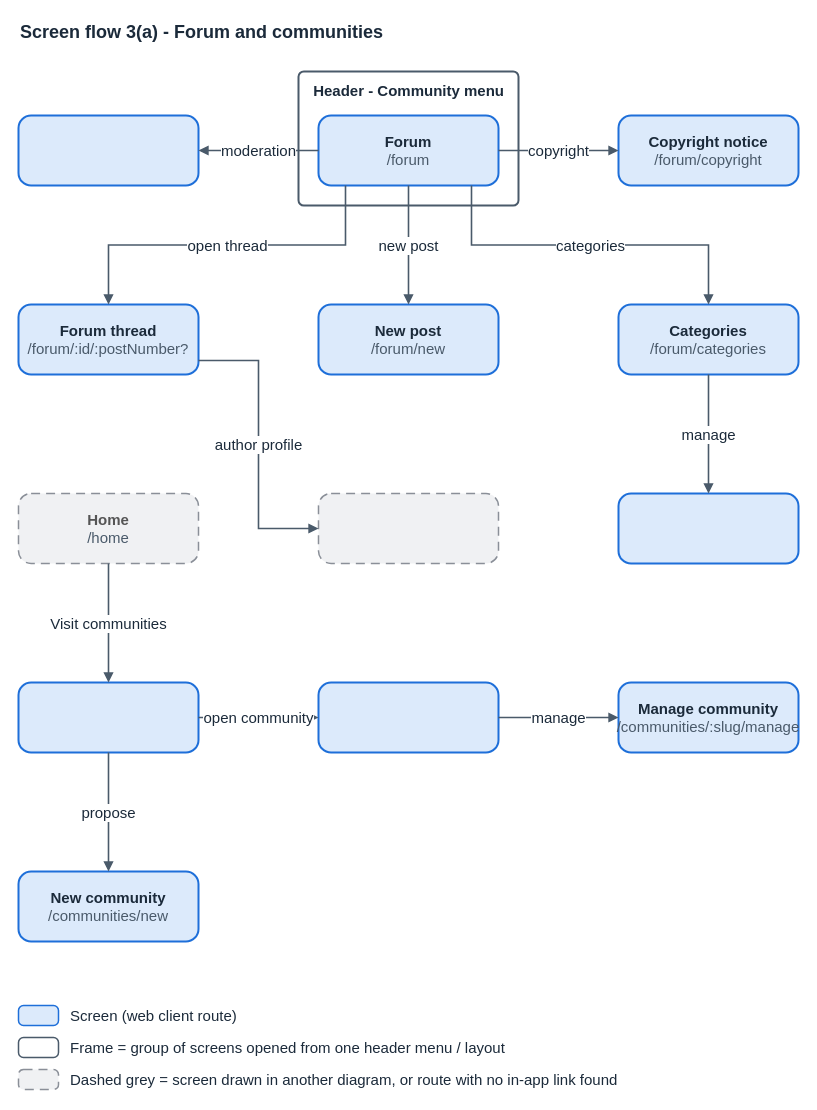
Image size: 817x1110. Some labels were removed from this diagram. Here are the shapes that lost their labels. From the top down, the box of each, then its label:
(17, 114, 199, 186): Moderation /forum/moderation
(317, 492, 499, 564): Public academic profile /u/:handle
(617, 492, 799, 564): Manage categories /forum/categories/manage
(17, 681, 199, 753): Communities /communities
(317, 681, 499, 753): Community /communities/:slug
